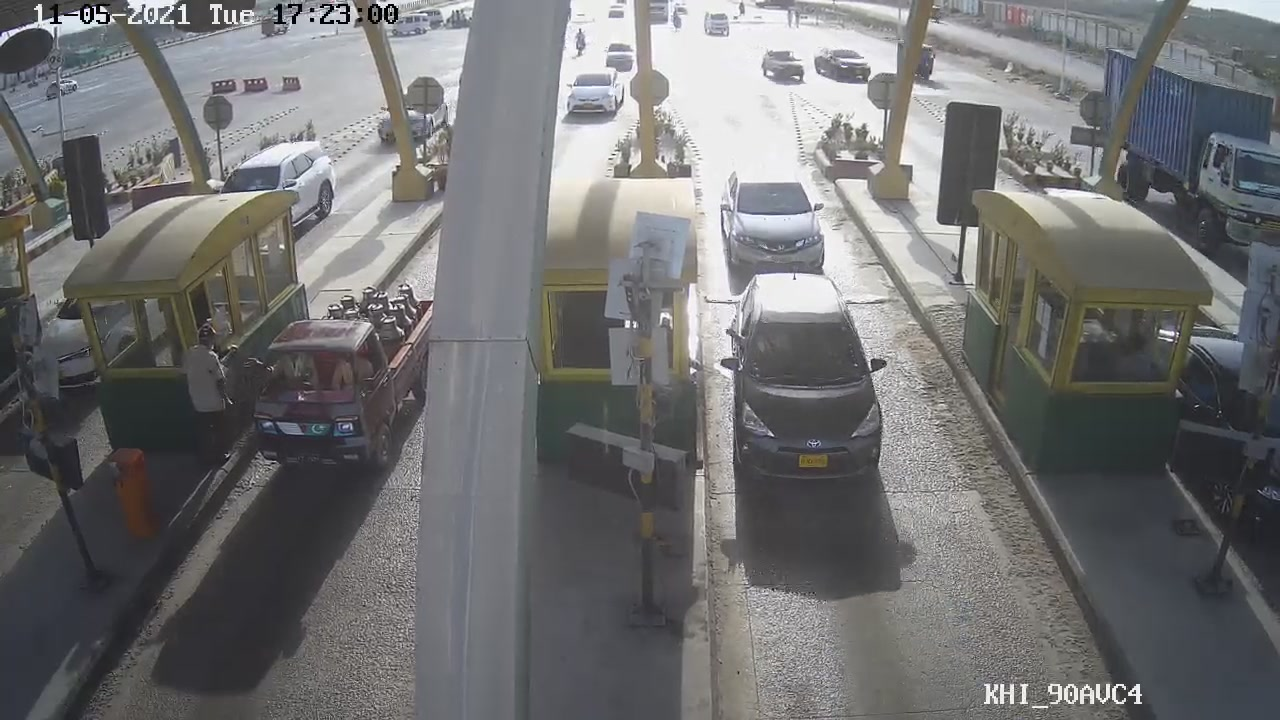F1: (716, 270, 891, 486)
